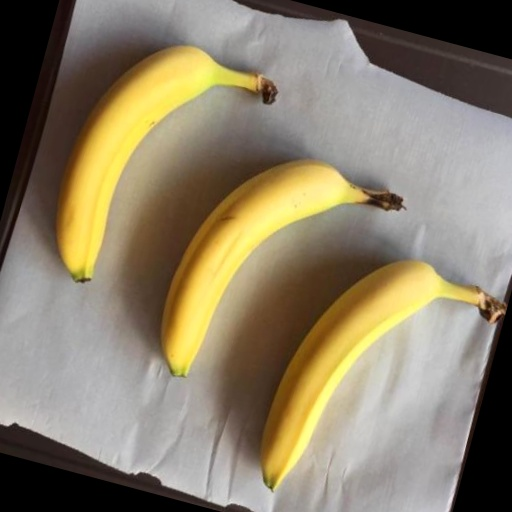fruit: (91, 206, 485, 512), (24, 125, 308, 511), (0, 60, 122, 355)
